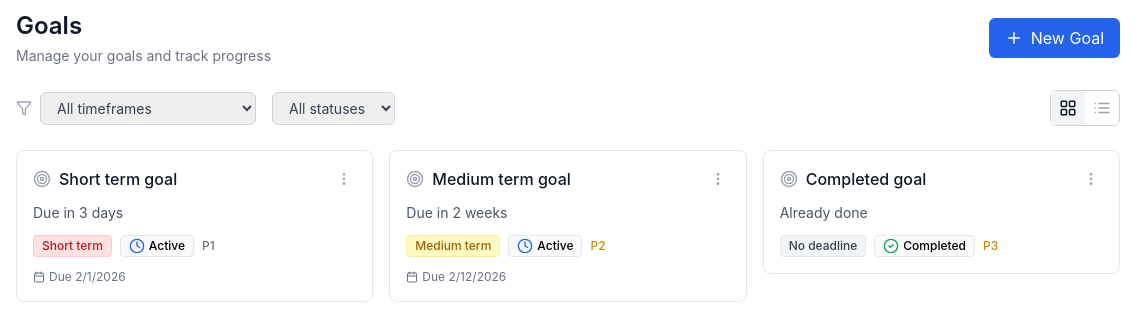
Test: Goals › filters goals by status
expect the heading "Short term goal" is shown: met, box [59,167,177,191]
Select "Completed" status filter
Select "Completed" in the 2nd dropdown showing "All statuses" at (334, 108), box [272,92,395,124]
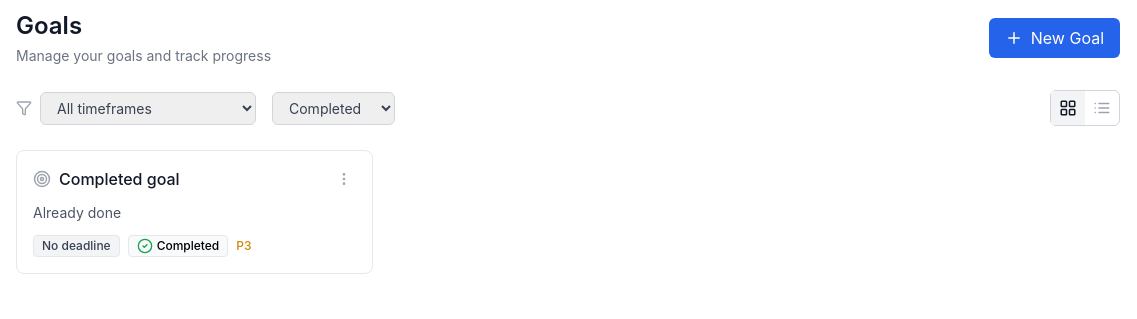
expect the heading "Completed goal" is shown: met, box [59,167,180,191]
expect the heading "Short term goal" is gone: met
expect the heading "Medium term goal" is gone: met
